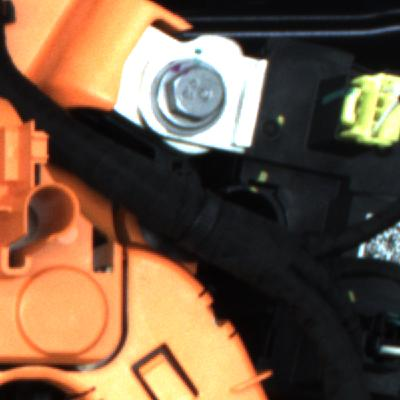nut_b: (163, 59, 240, 137)
